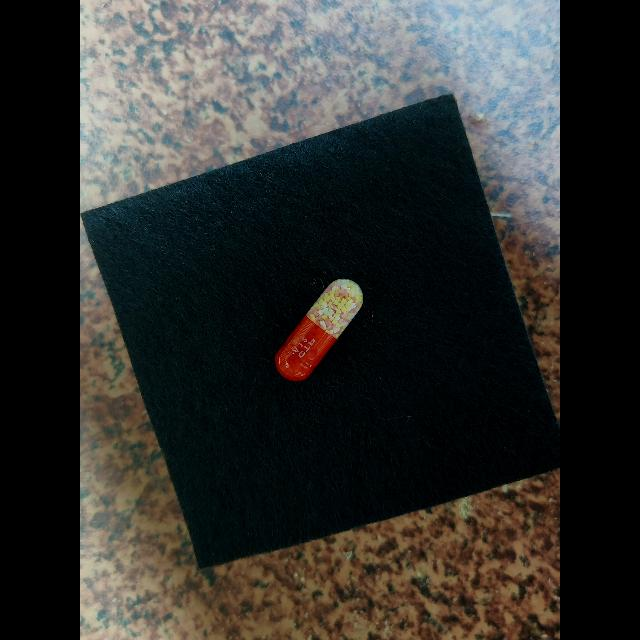Intact Capsule: (275, 279, 363, 381)
